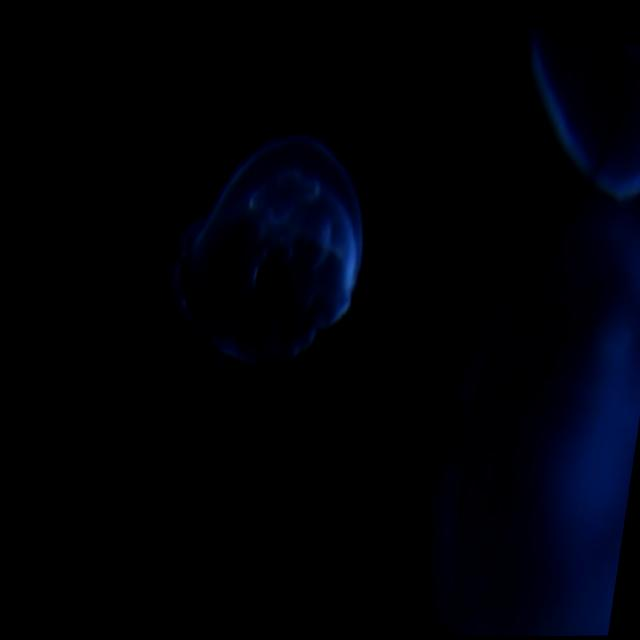Moon-jellyfish: (413, 206, 640, 638), (163, 126, 367, 377), (515, 26, 640, 203)
